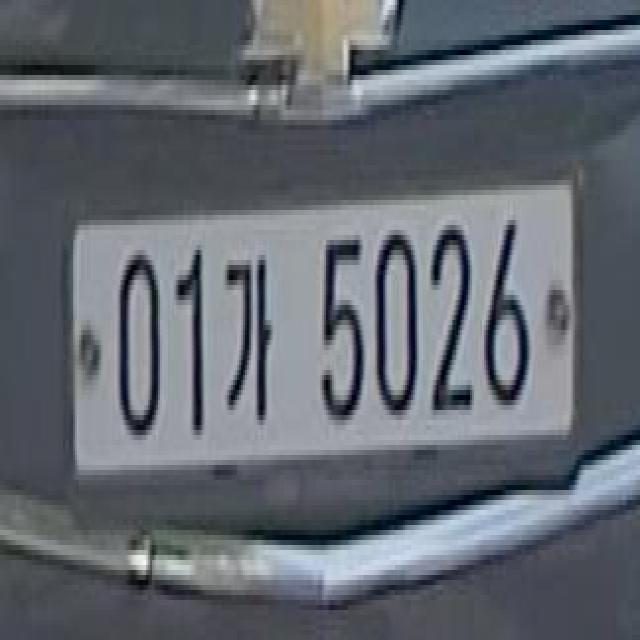illegal_plate: (74, 173, 578, 500)
